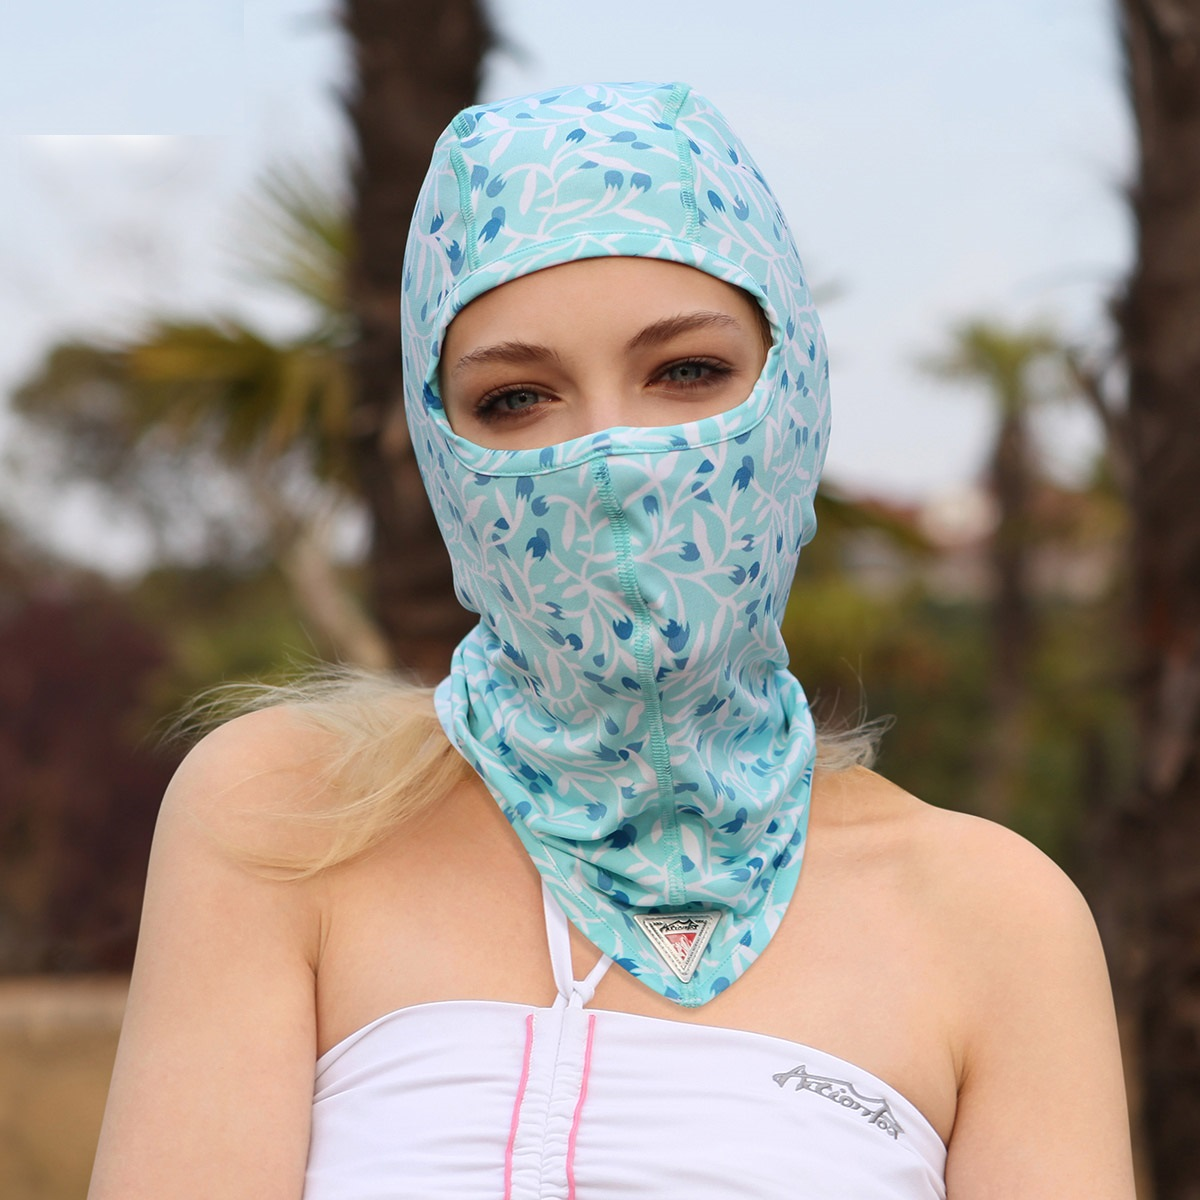face_mask: (442, 304, 769, 688)
